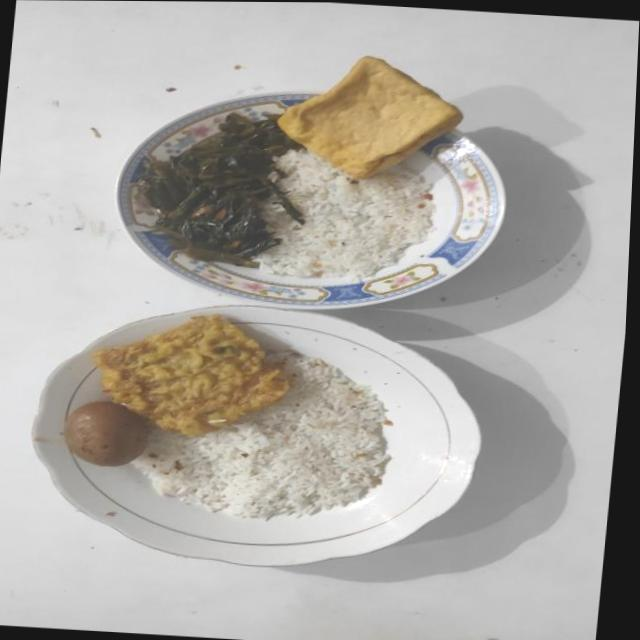nasi_putih: (135, 352, 391, 520), (260, 150, 437, 282)
tahu_goreng: (278, 56, 462, 180)
tumis_kangkung: (138, 114, 304, 268)
